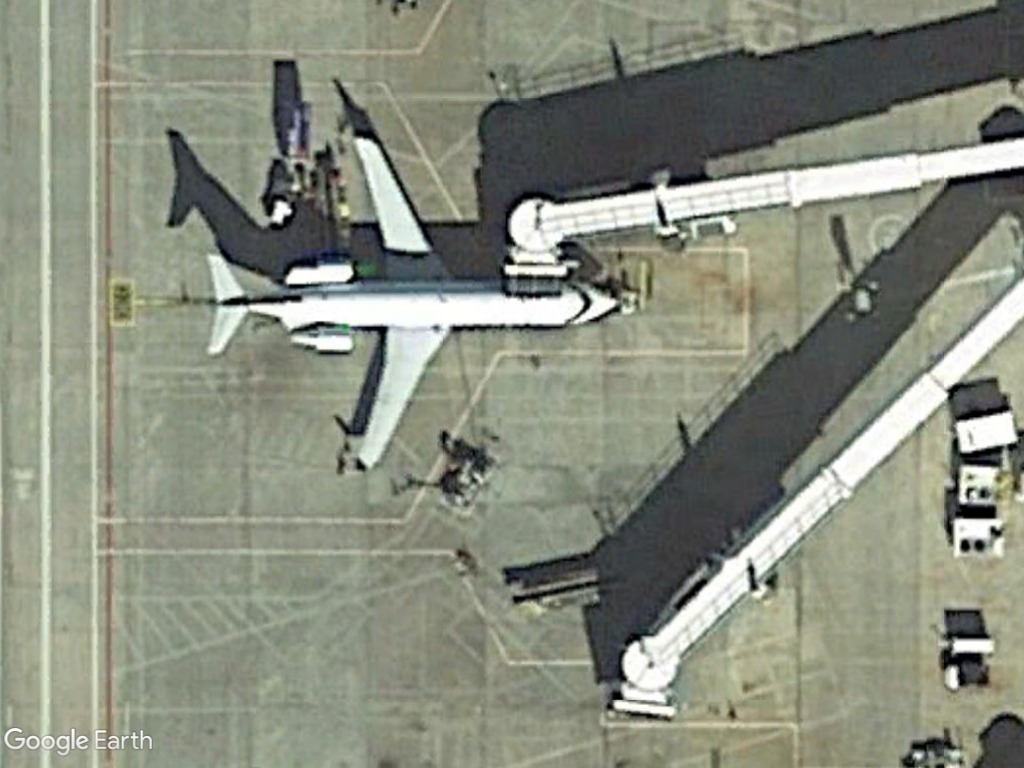chartered: (193, 130, 624, 477)
